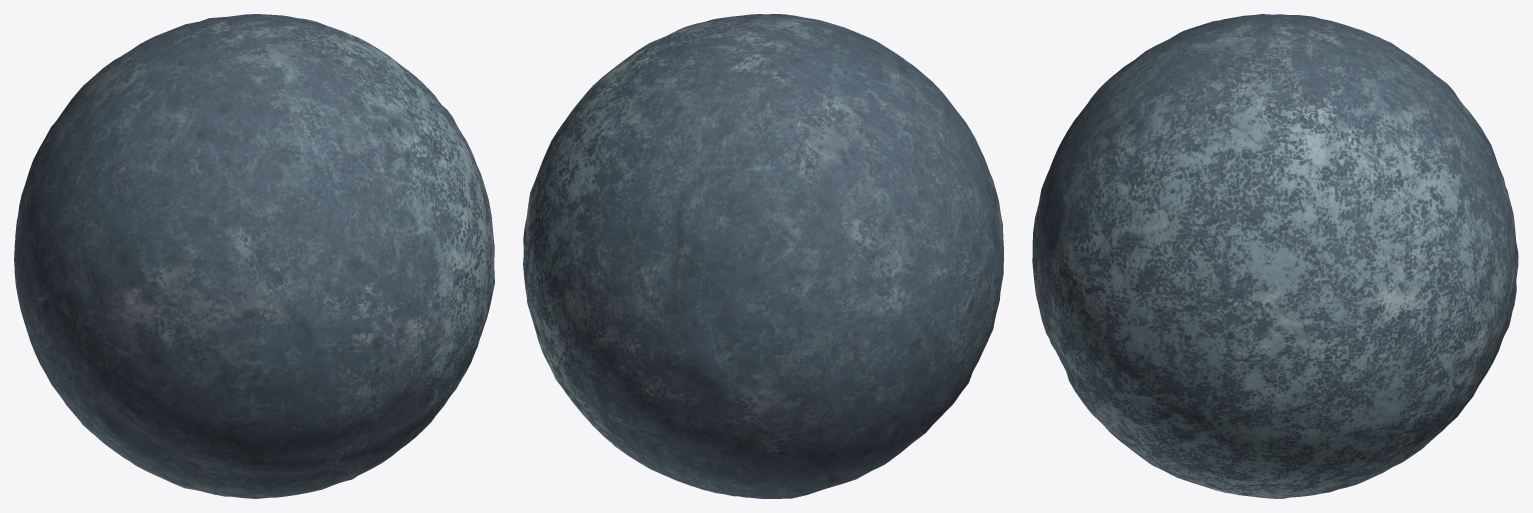
The model's file is blue_planet.glb.
3 renders of one model, left to right at view 1: azimuth 30°, elevation 25°; view 2: azimuth 150°, elevation 25°; view 3: azimuth 270°, elevation 25°, orthographic.
Visible parts, largest first — view 1: MakeMake_LP; view 2: MakeMake_LP; view 3: MakeMake_LP.
Boxes of the visible parts, bbox=[...] form: MakeMake_LP: bbox=[14, 14, 494, 498]; MakeMake_LP: bbox=[523, 14, 1003, 498]; MakeMake_LP: bbox=[1032, 14, 1518, 498].
Bounding box in the file's own units: 1.98 × 2 × 2.
1 material, 1 textured.
